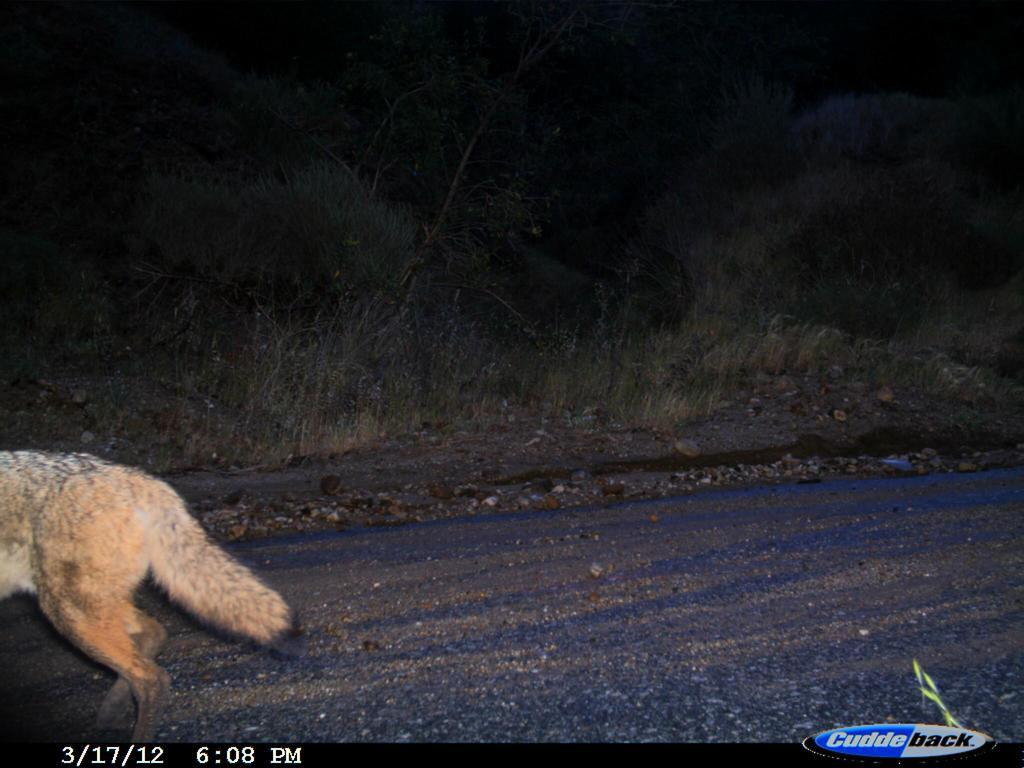coyote: (3, 425, 297, 747)
